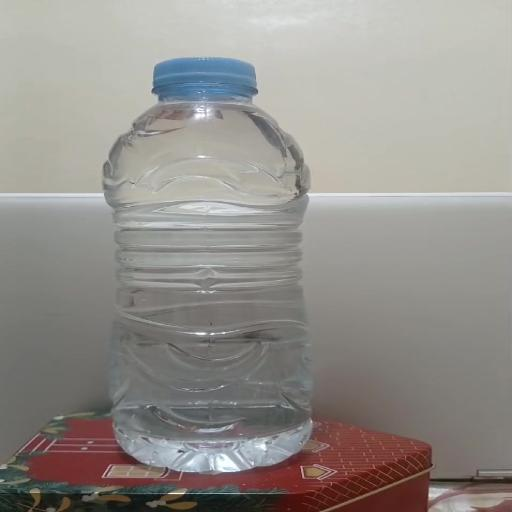bouteille non conformite: (105, 48, 327, 470), (95, 200, 301, 323)
